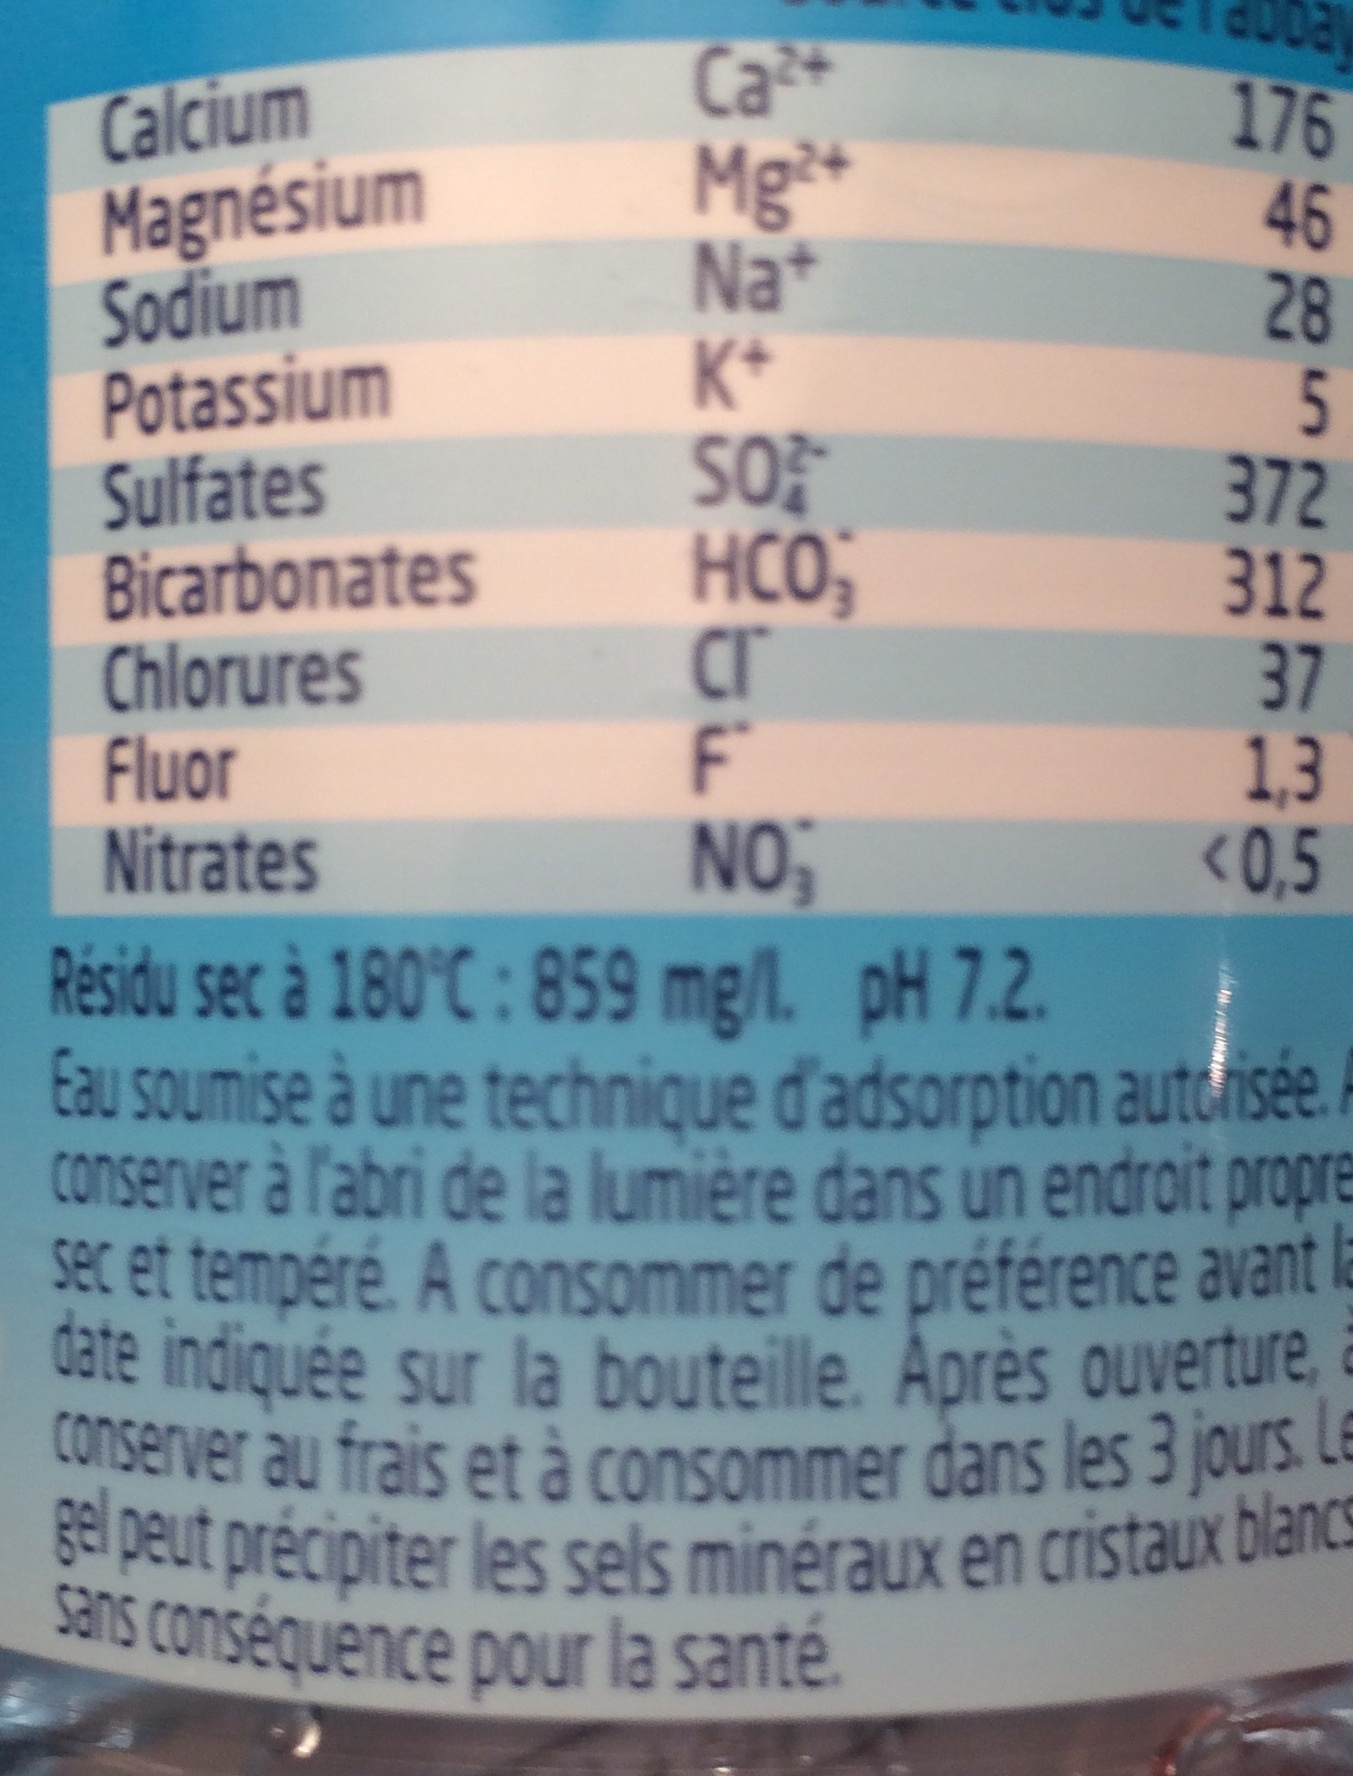column: (99, 72, 480, 902), (688, 33, 861, 908), (1202, 67, 1337, 914)
table: (28, 40, 1353, 915)
